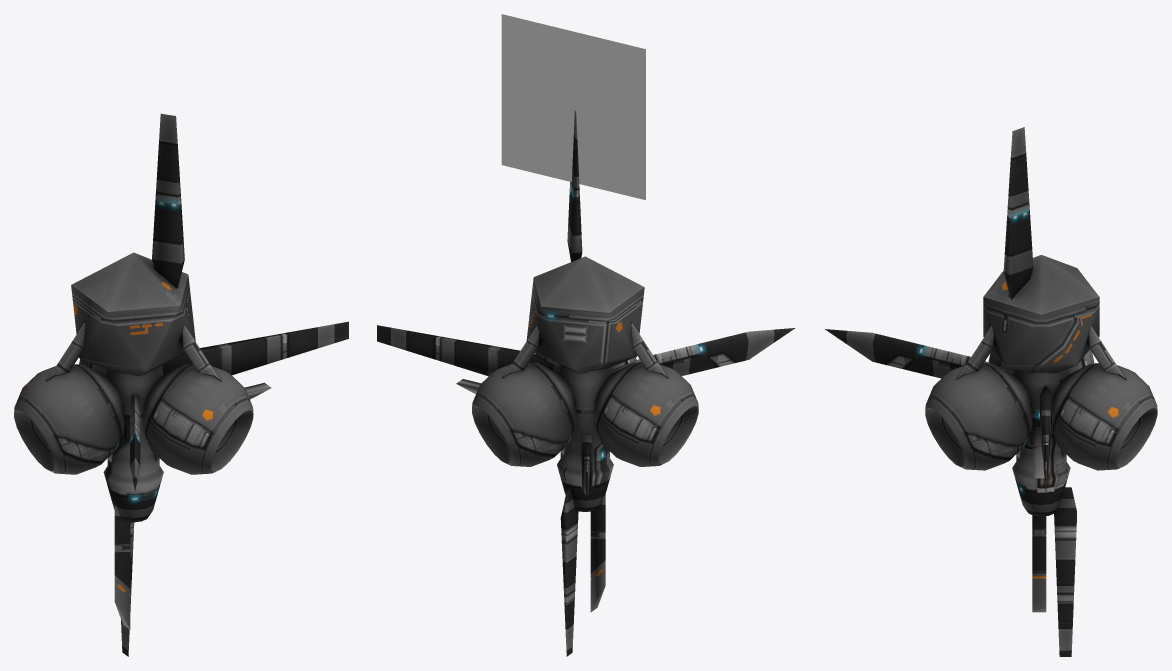
Rendered from generic_collectable_sensor_probe_01.glb.
The picture shows the model from 3 angles, left to right: view 1: azimuth 30°, elevation 25°; view 2: azimuth 150°, elevation 25°; view 3: azimuth 270°, elevation 25°; orthographic projection. The views are drawn at different scales.
Visible parts, largest first — view 1: generic_sensor_probe_01; view 2: generic_sensor_probe_01, NavLight_Cargo_fx_BlueSmall; view 3: generic_sensor_probe_01.
Part boxes in pixels (bbox=[...]): generic_sensor_probe_01: bbox=[14, 113, 348, 656]; generic_sensor_probe_01: bbox=[377, 110, 795, 656]; NavLight_Cargo_fx_BlueSmall: bbox=[501, 14, 645, 200]; generic_sensor_probe_01: bbox=[825, 127, 1157, 656].
Size of the model in its own units: 0.4038 by 0.7472 by 0.3661.
2 materials, 1 textured.
